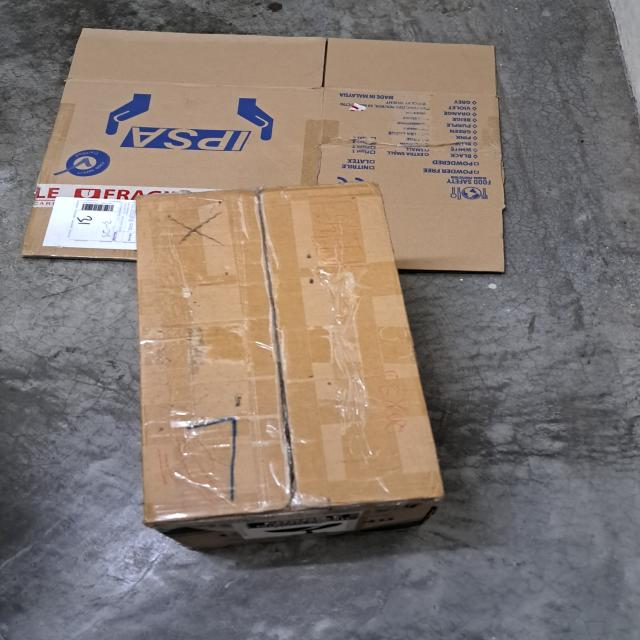cardboard: (21, 30, 506, 275), (137, 183, 446, 548)
